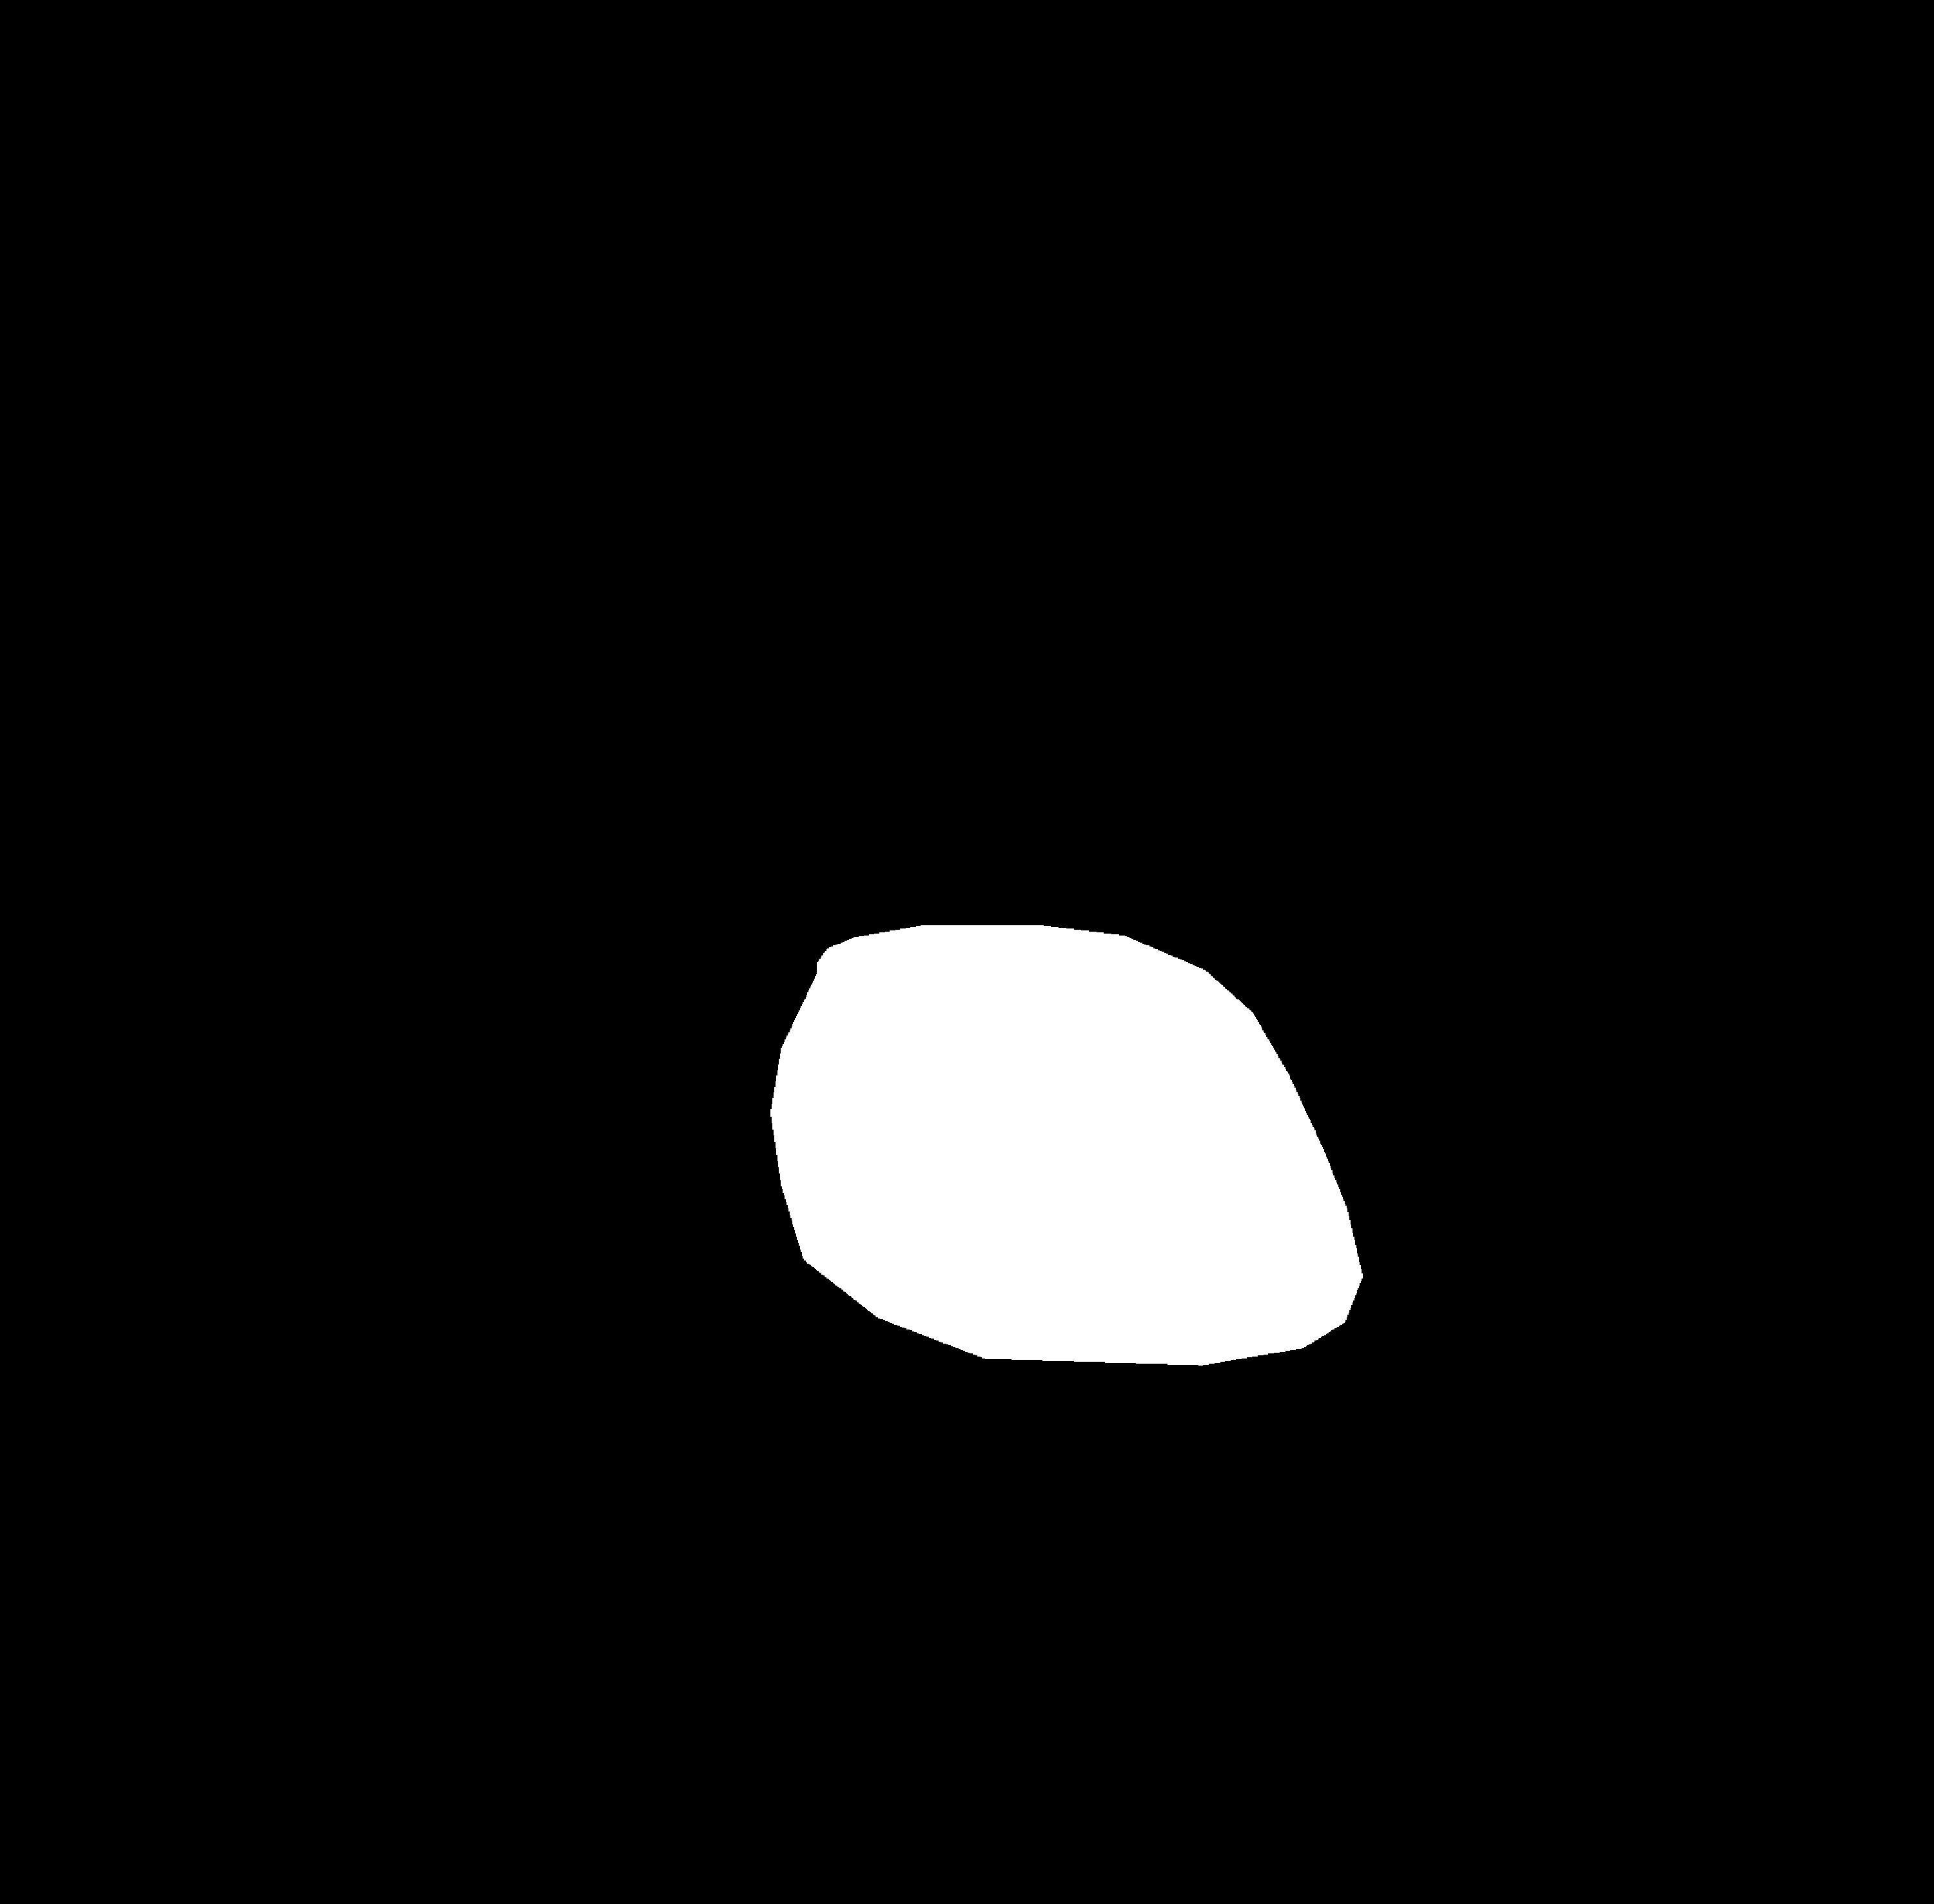heart: (767, 954, 1367, 1390)
left_lung: (251, 300, 881, 1451)
right_lung: (1045, 284, 1657, 1602)
